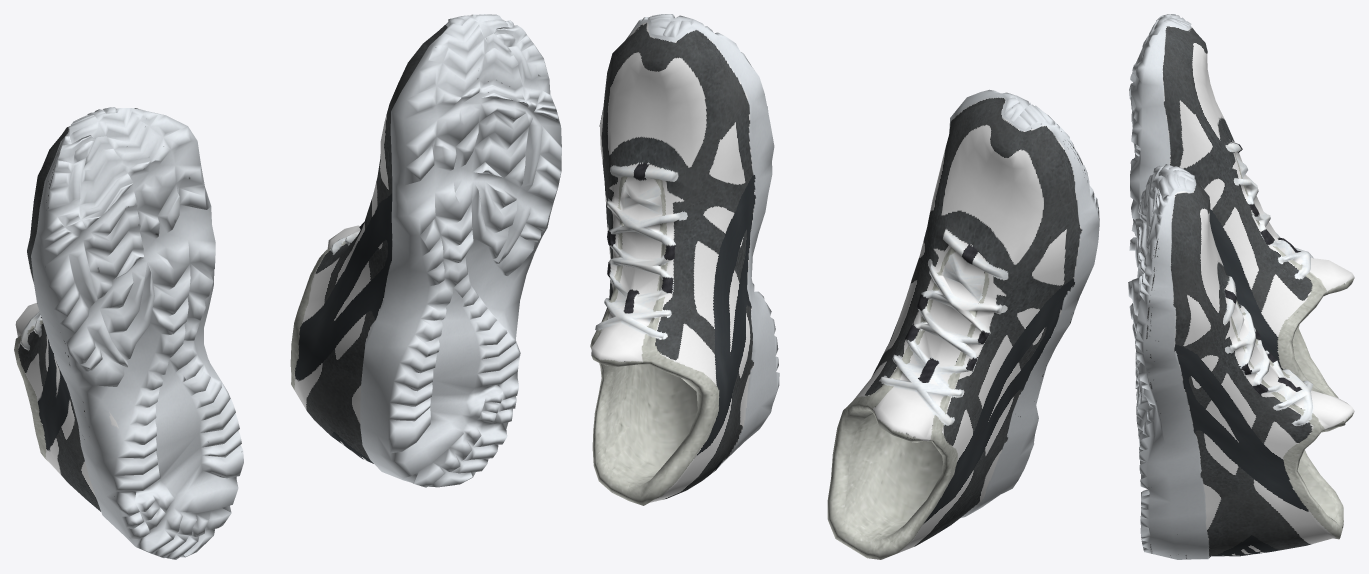
The model's file is pickup_default_shoes.glb.
3 renders of one model, left to right at view 1: azimuth 30°, elevation 25°; view 2: azimuth 150°, elevation 25°; view 3: azimuth 270°, elevation 25°, orthographic. The views are drawn at different scales.
Parts seen in each view (by area): view 1: Shoes.001; view 2: Shoes.001; view 3: Shoes.001.
Boxes of the visible parts, bbox=[...] form: Shoes.001: bbox=[14, 14, 561, 559]; Shoes.001: bbox=[590, 14, 1099, 559]; Shoes.001: bbox=[1128, 14, 1354, 559].
Size of the model in its own units: 0.693 by 0.5892 by 0.3022.
1 material, 1 textured.
